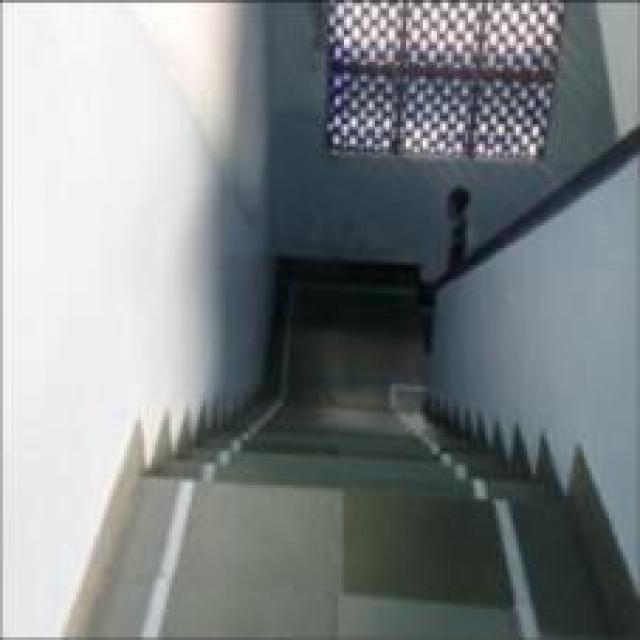downstair: (136, 354, 551, 545)
